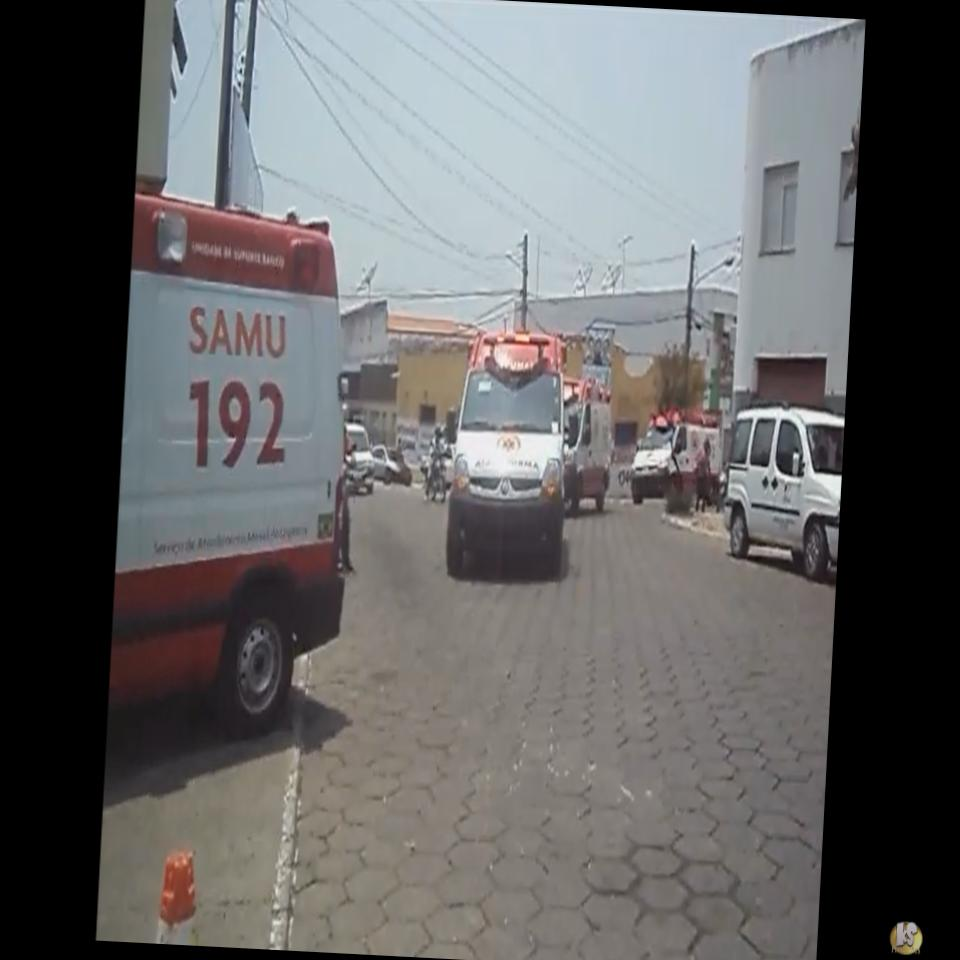bombeiro: (437, 327, 584, 584)
